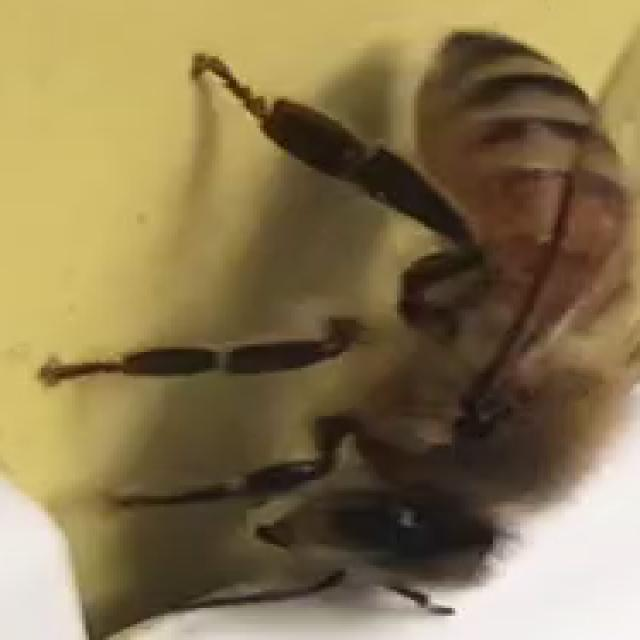honeybee: (206, 4, 640, 640)
